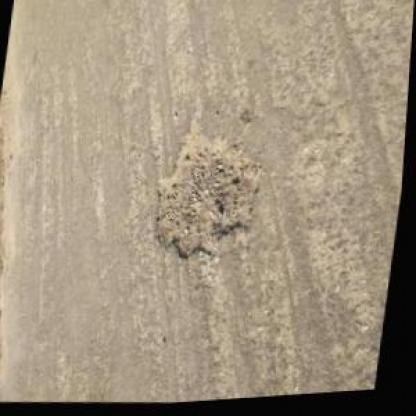pothole: (148, 110, 274, 270)
